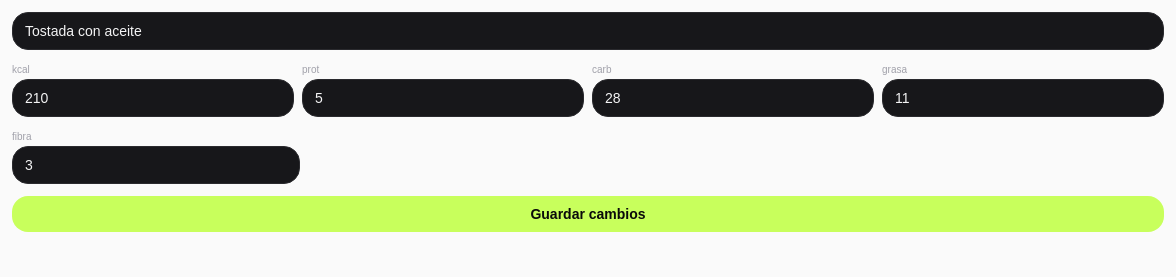
Test case: R4: editar una personalizada favorita › R4: con el nombre de otra favorita, «Ya tienes un favorito con ese nombre» y no se guarda
Replace the text in the field with placeholder "Nombre" with "Tortilla francesa" at (588, 31), box [12,12,1164,50]
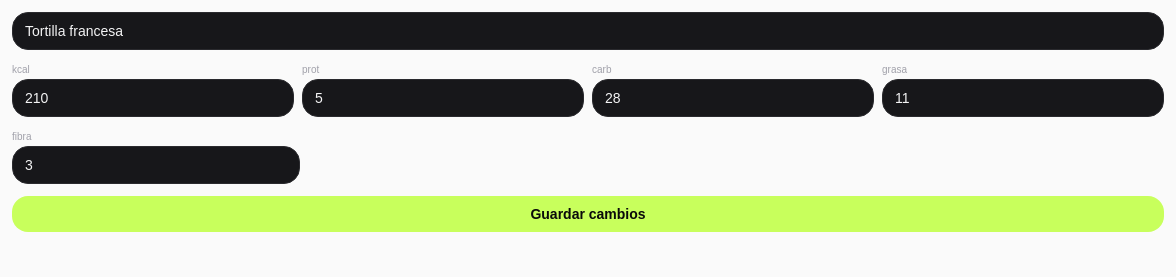
Click the button "Guardar cambios" at (588, 214), box [12,196,1164,232]
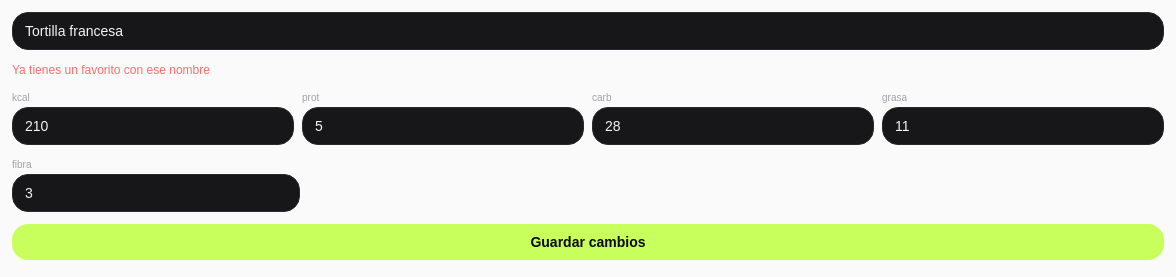
Expected: the message reads "Ya tienes un favorito con ese nombre", [12,63,210,77]
